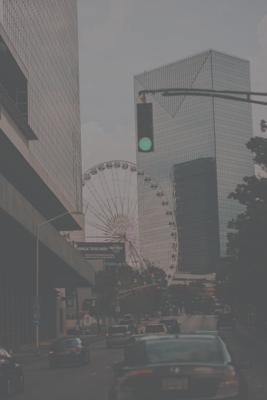International Road Signal Light: (136, 101, 154, 154)
